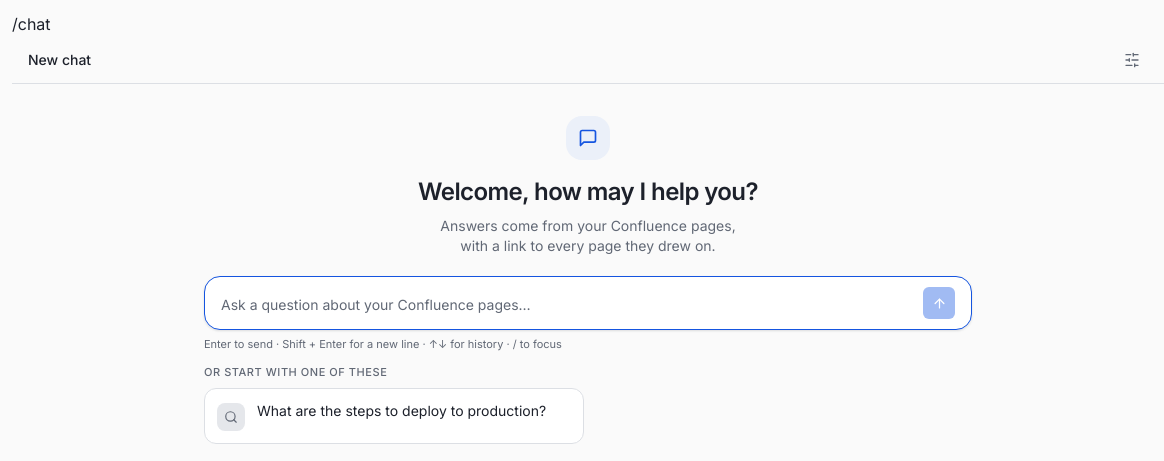
Test: opening a new chat › keeps the caret in the question box once the first answer replaces the welcome
The image size is (1164, 461).
Type "Where are the runbooks?" into the text box labelled "Ask a question about your Confluence pages…" at (568, 305), box [221,291,915,319]
Then press Enter
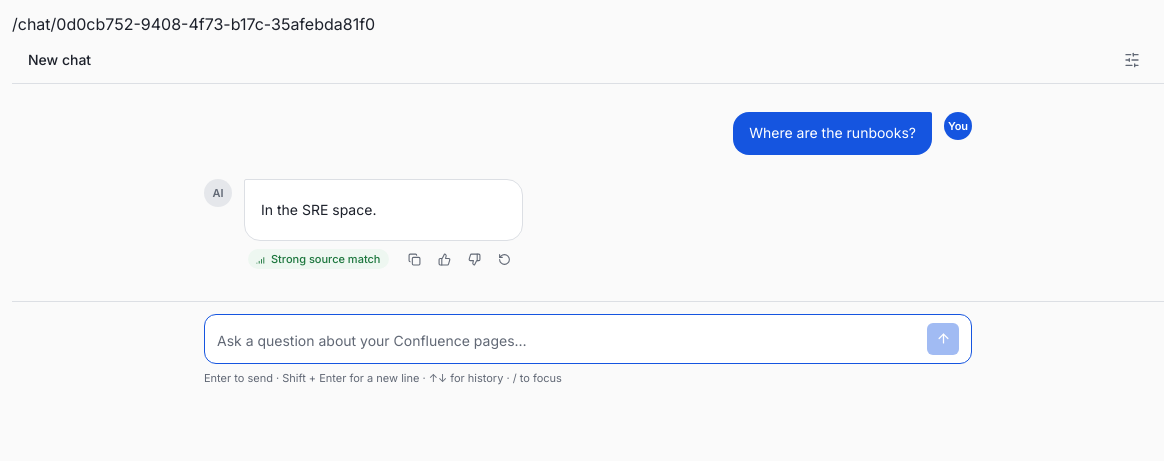
Expected: the text "In the SRE space." is shown, [261,201,376,218]
Expected: the button "steps to deploy to production" is gone
